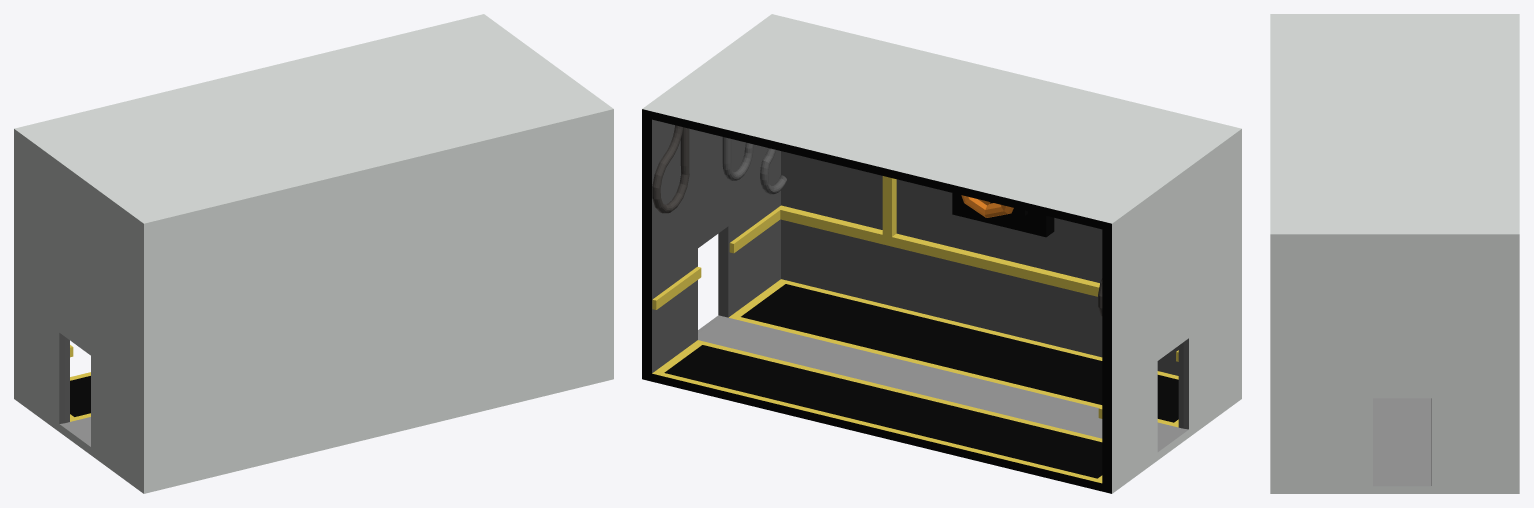
The model's file is Hallway1.fbx.
3 renders of one model, left to right at view 1: azimuth 30°, elevation 25°; view 2: azimuth 150°, elevation 25°; view 3: azimuth 270°, elevation 25°, orthographic. The views are drawn at different scales.
Parts seen in each view (by area): view 1: BaseRoom; view 2: BaseRoom; view 3: BaseRoom.
Boxes of the visible parts, x1,y1,x2,y2 form: BaseRoom: (14,14,613,493); BaseRoom: (642,14,1241,493); BaseRoom: (1270,14,1519,493).
Bounding box in the file's own units: 1806 × 992 × 864.
